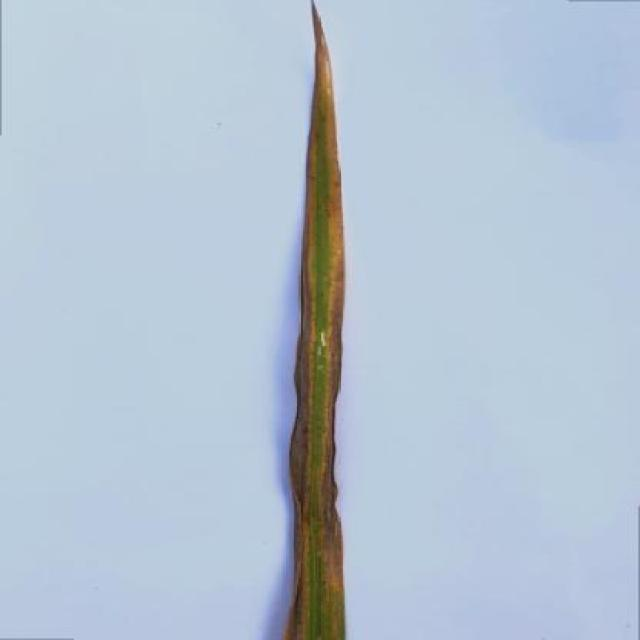Rice False Smut: (283, 4, 345, 639)
